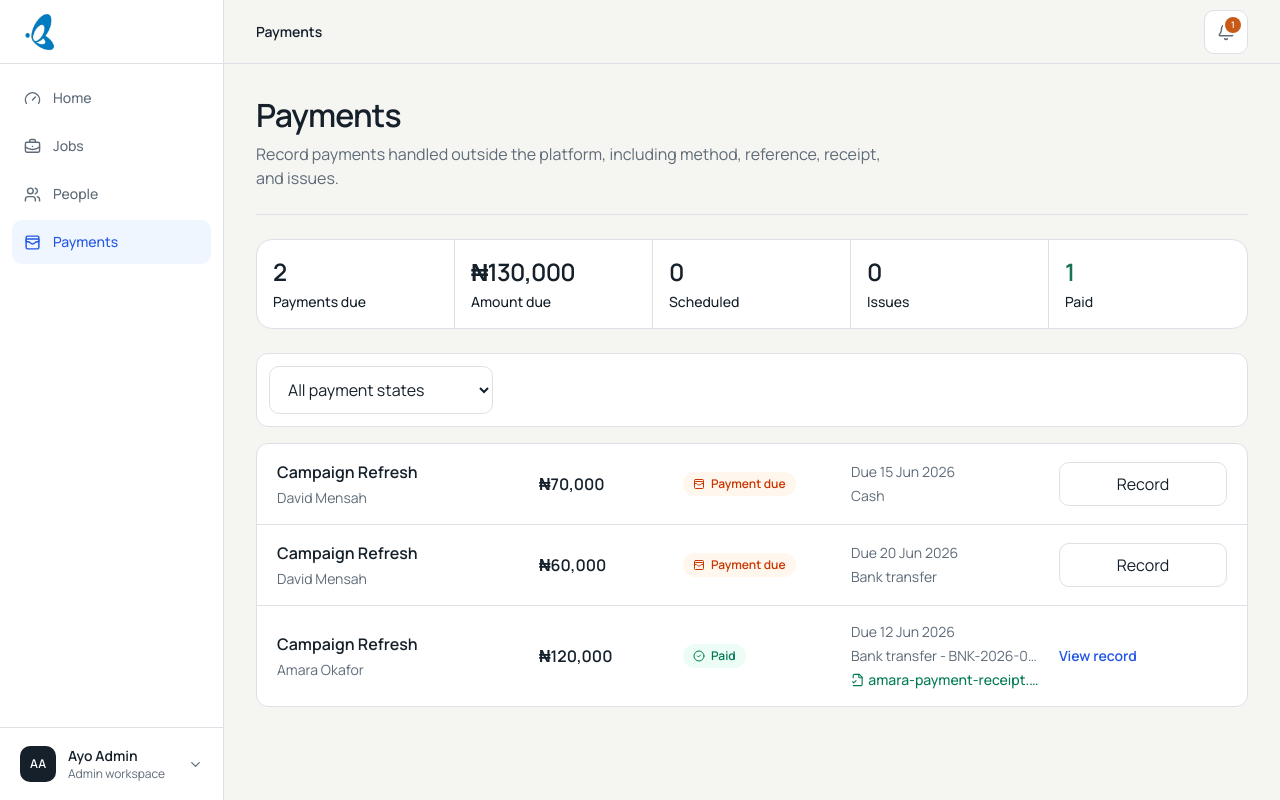
application routing › requires a reference for a bank transfer
Click the button with aria-label "Record payment for payment-due-transfer". click: x=1143, y=565
box: [1059,543,1227,587]
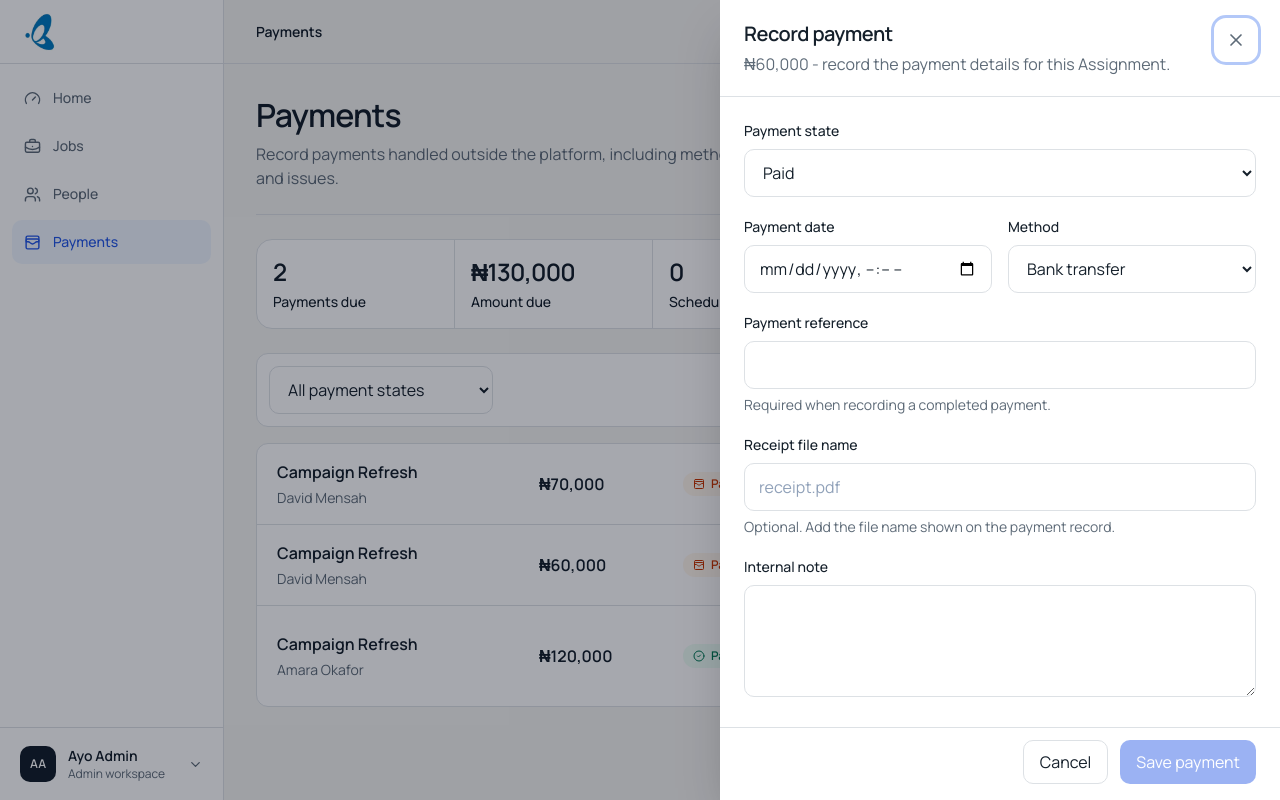
Expected: the dropdown labelled "Payment state" shows "Paid", [744,149,1256,197]
Expected: the dropdown labelled "Method" shows "Bank transfer", [1008,245,1256,293]
Type "2026-06-21T10:00" into the field labelled "Payment date". click: x=868, y=269
box: [744,245,992,293]
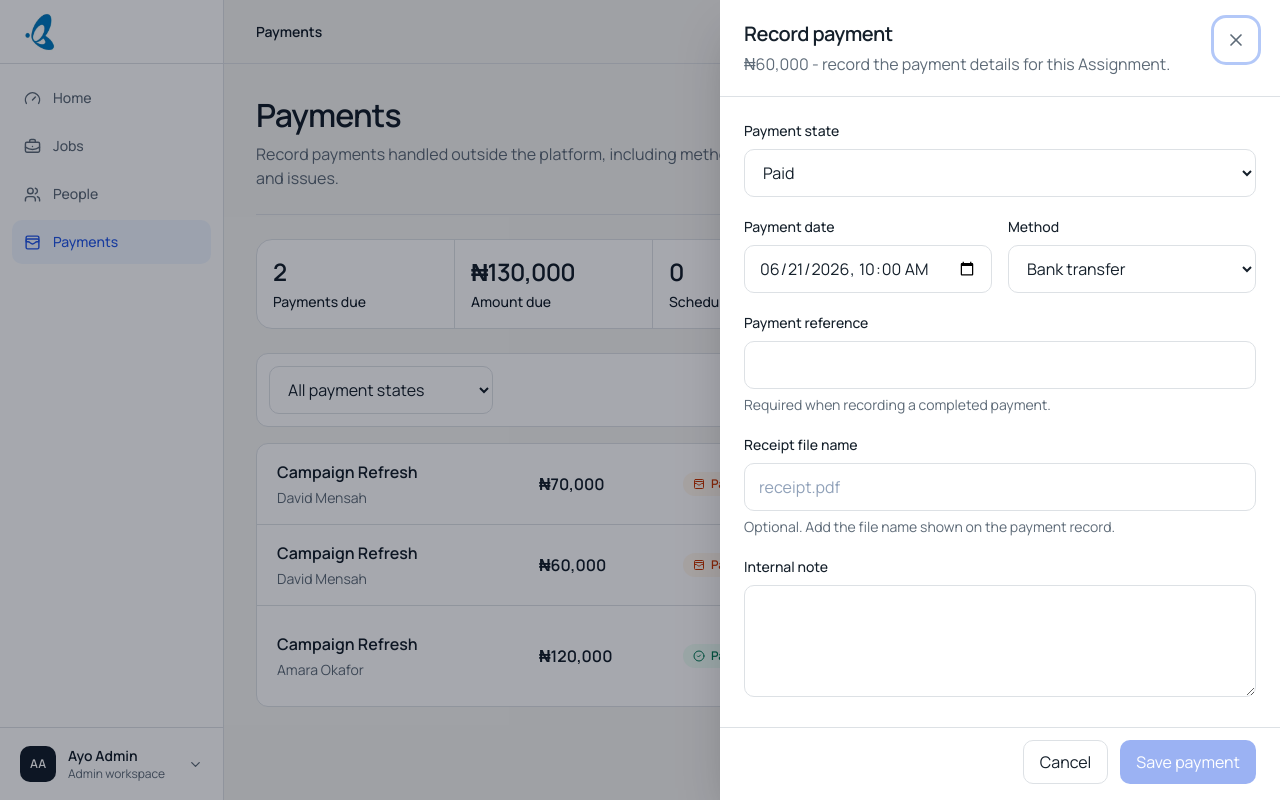
Expected: the button "Save payment" is disabled, [1120,740,1256,784]
Type "TRF-1048" into the field labelled "Payment reference". click: x=1000, y=365
box: [744,341,1256,389]
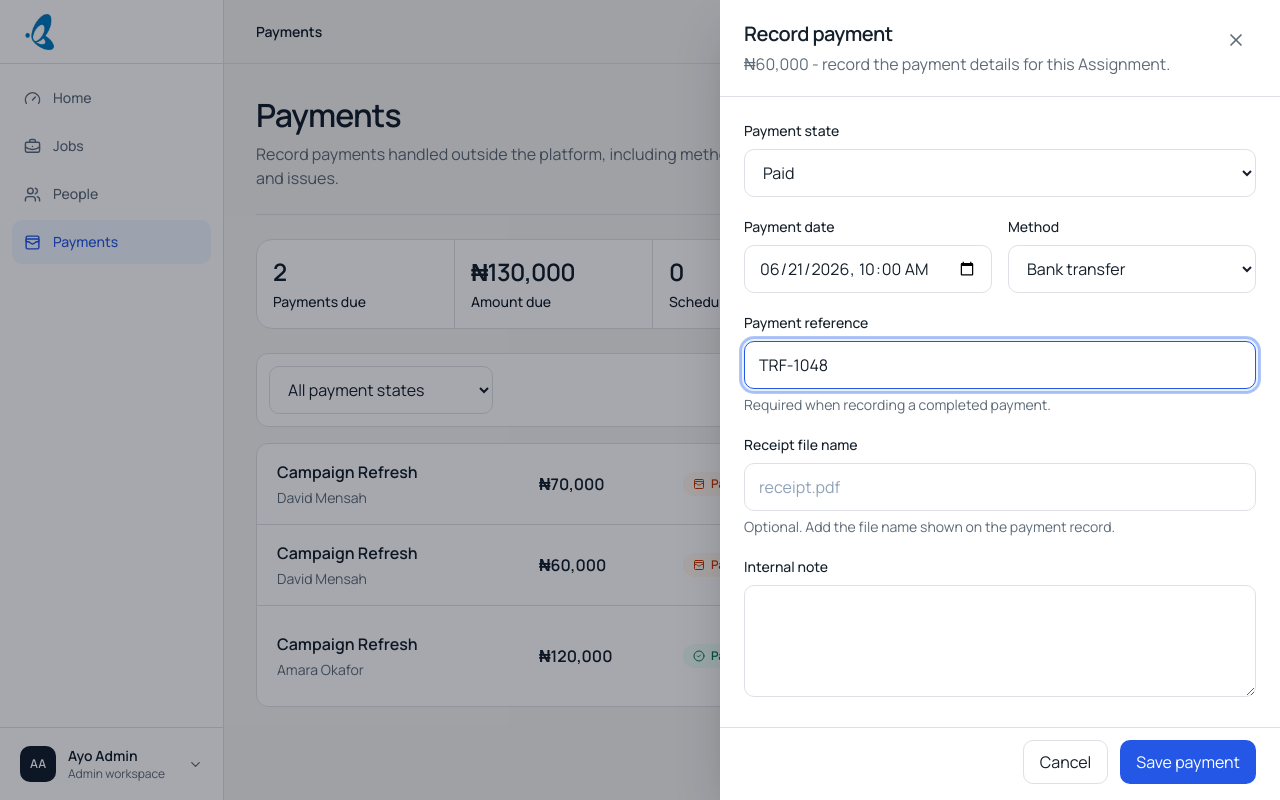
Expected: the button "Save payment" is enabled, [1120,740,1256,784]
